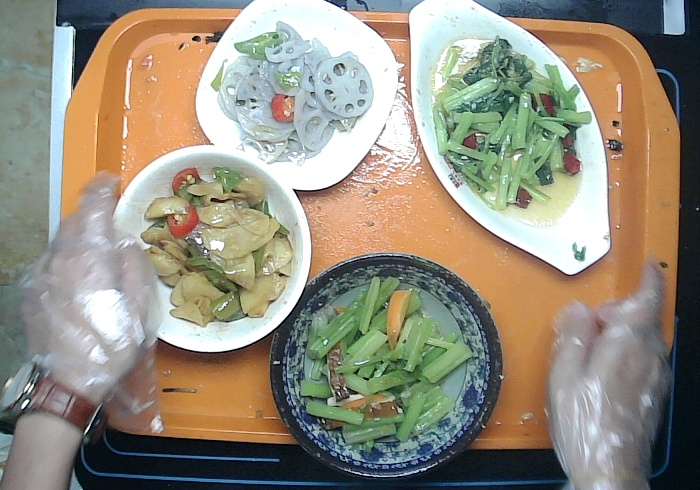ZNLD-Qing_Hua_Wan: (270, 247, 504, 480)
ZNLD-Si_Fang_Wan: (193, 1, 395, 195)
ZNLD-Tang_Wan: (118, 147, 312, 363)
ZNLD-Yu_Pan: (407, 2, 612, 277)
